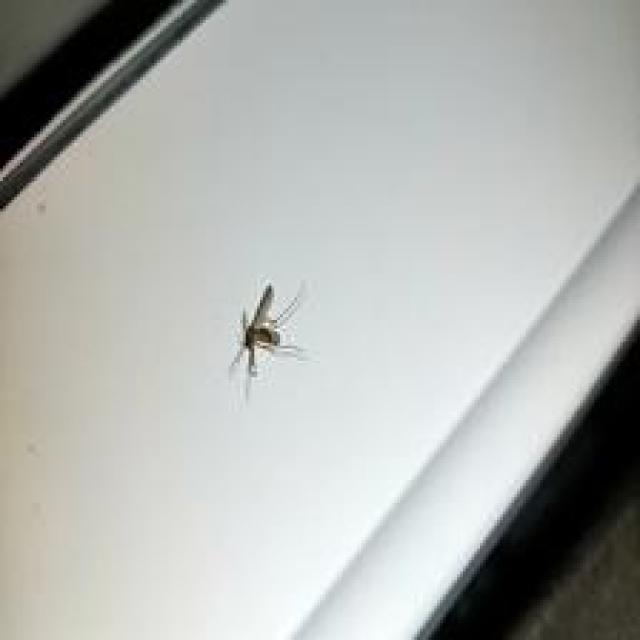Culex: (227, 280, 307, 400)
